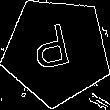P_S: (33, 22, 80, 80)
